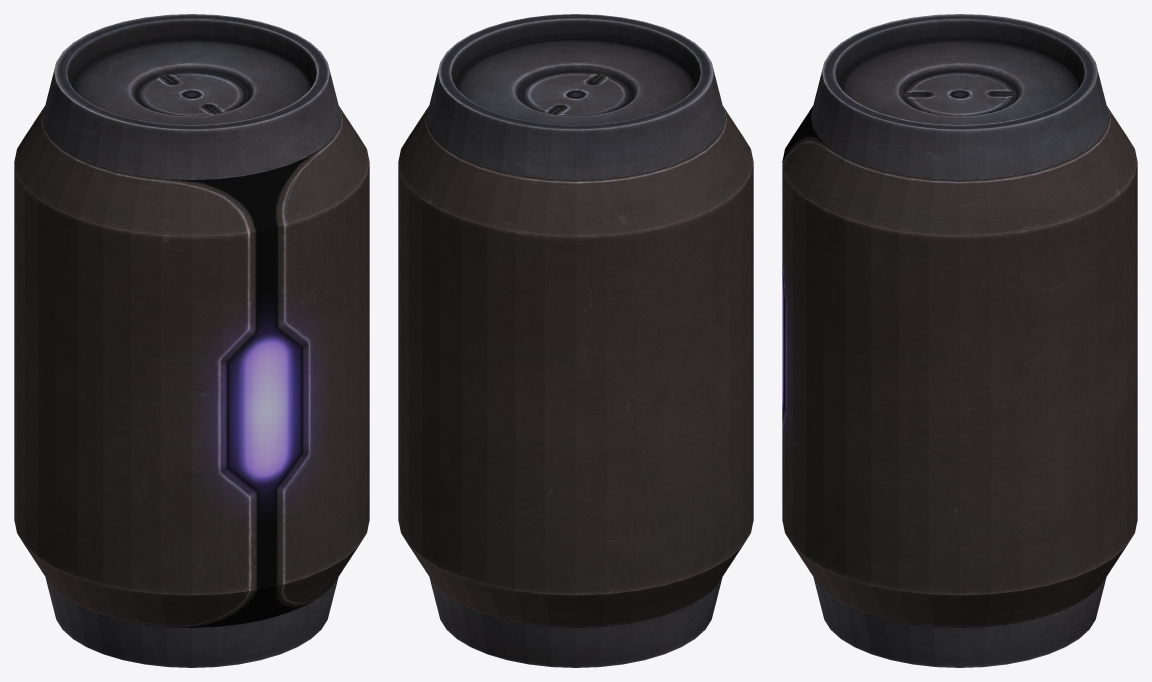
File: gas_bim.obj
3 renders of one model, left to right at view 1: azimuth 30°, elevation 25°; view 2: azimuth 150°, elevation 25°; view 3: azimuth 270°, elevation 25°, orthographic.
Visible parts, largest first — view 1: Gas; view 2: Gas; view 3: Gas.
Part boxes in pixels (<box>): Gas: <box>14,14,369,667</box>; Gas: <box>398,14,753,667</box>; Gas: <box>782,14,1137,667</box>.
Size of the model in its own units: 62.56 by 104 by 62.57.
